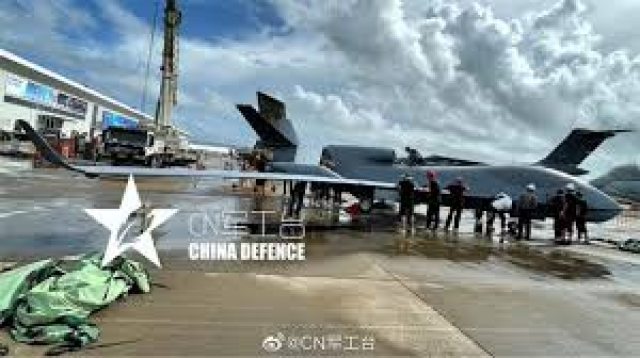military drone: (16, 90, 636, 223)
